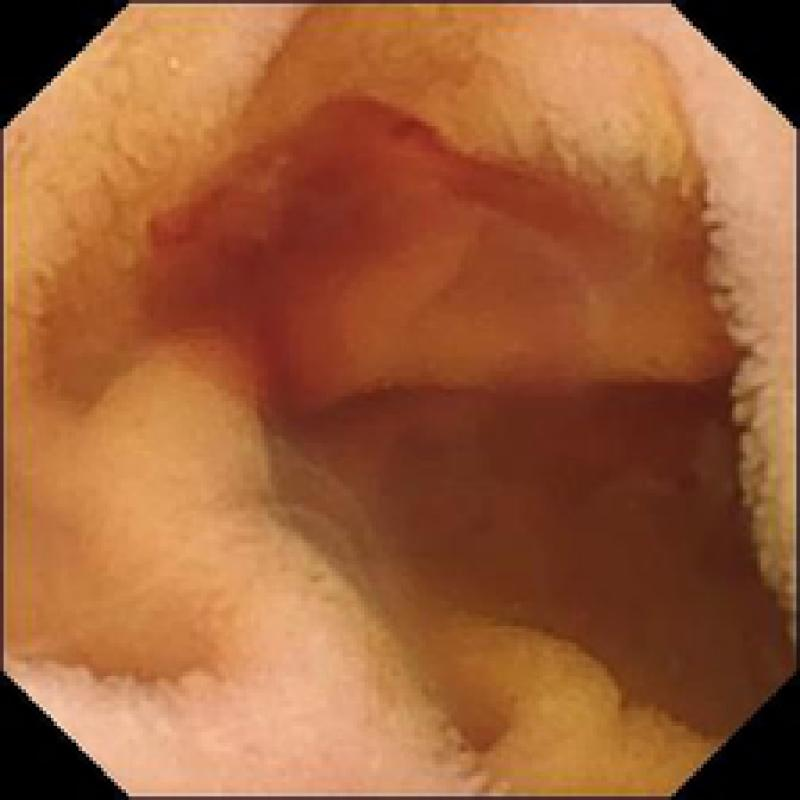bleeding: (132, 85, 597, 404)
